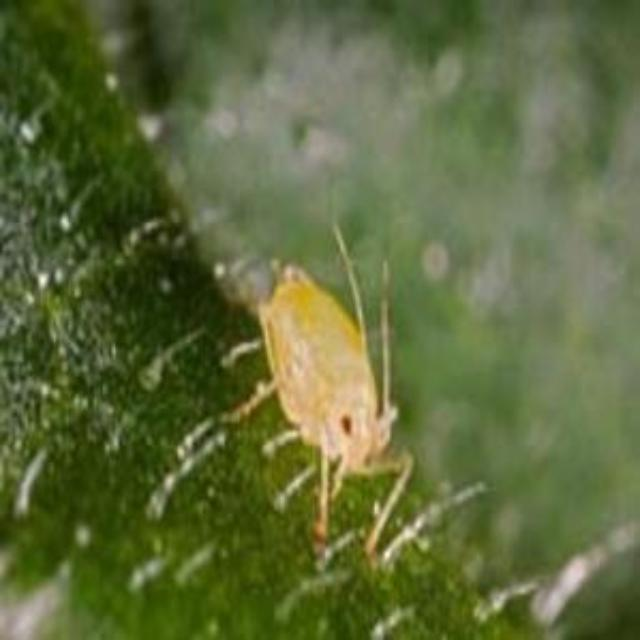Green peach aphid: (127, 204, 453, 552)
